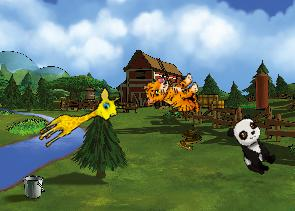giraffe: (34, 83, 126, 158)
panda: (223, 112, 282, 179)
tiger: (141, 67, 205, 125)
